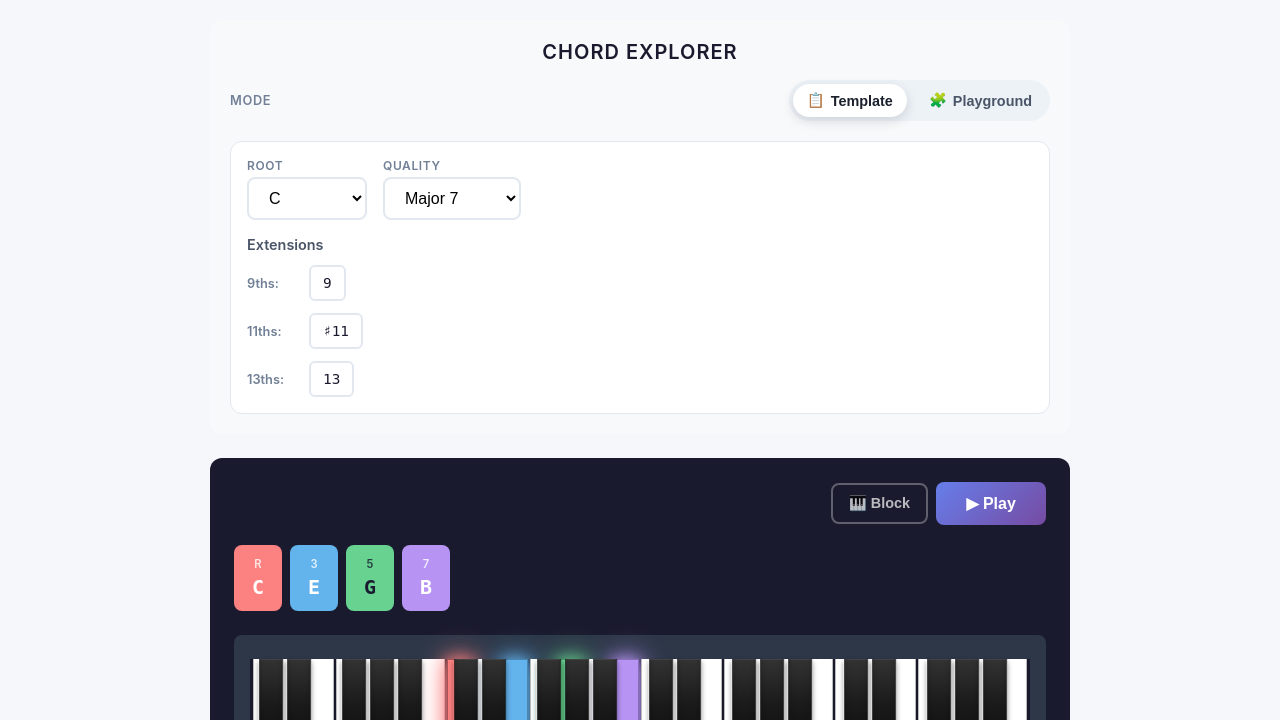
it: ChordExplorer (Playground Mode) › prevents disabling below two enabled notes and shows warning
This screenshot has width=1280, height=720.
Click the button "🧩 Playground" at (980, 100), box [915, 84, 1046, 117]
(page scrolled)
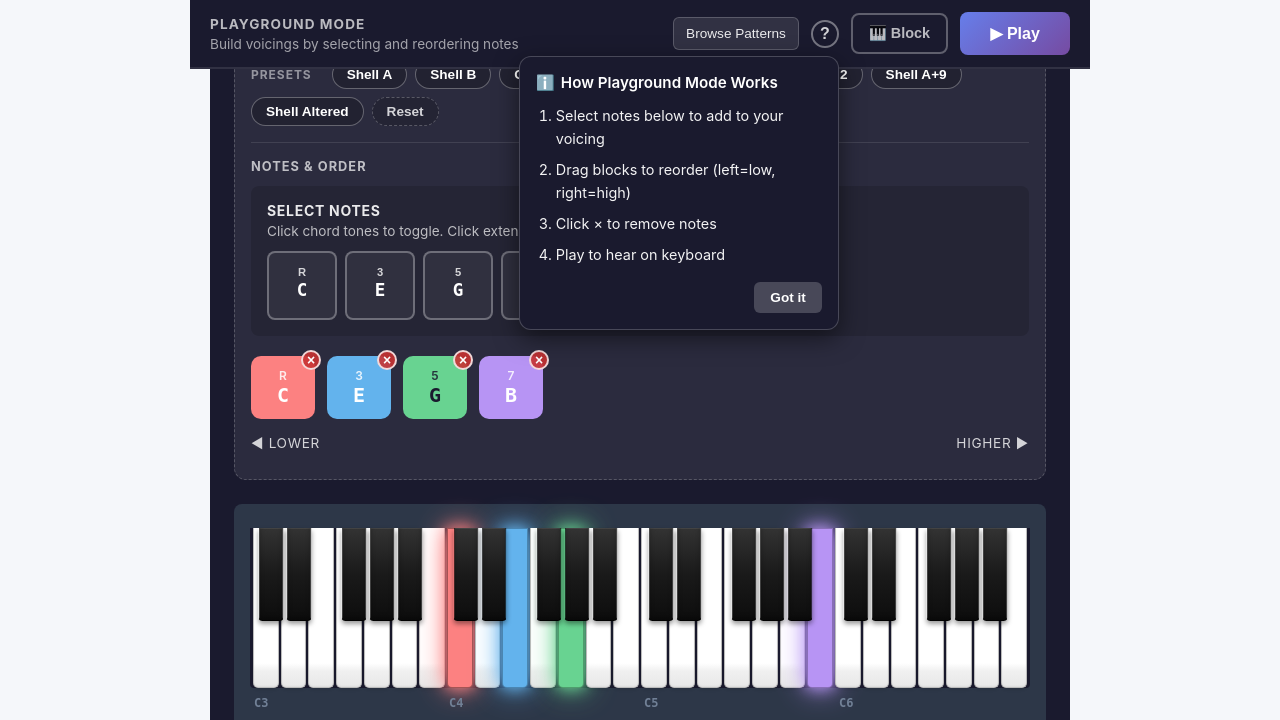
Click the button named "Remove G" at (463, 360), box [453, 350, 473, 370]
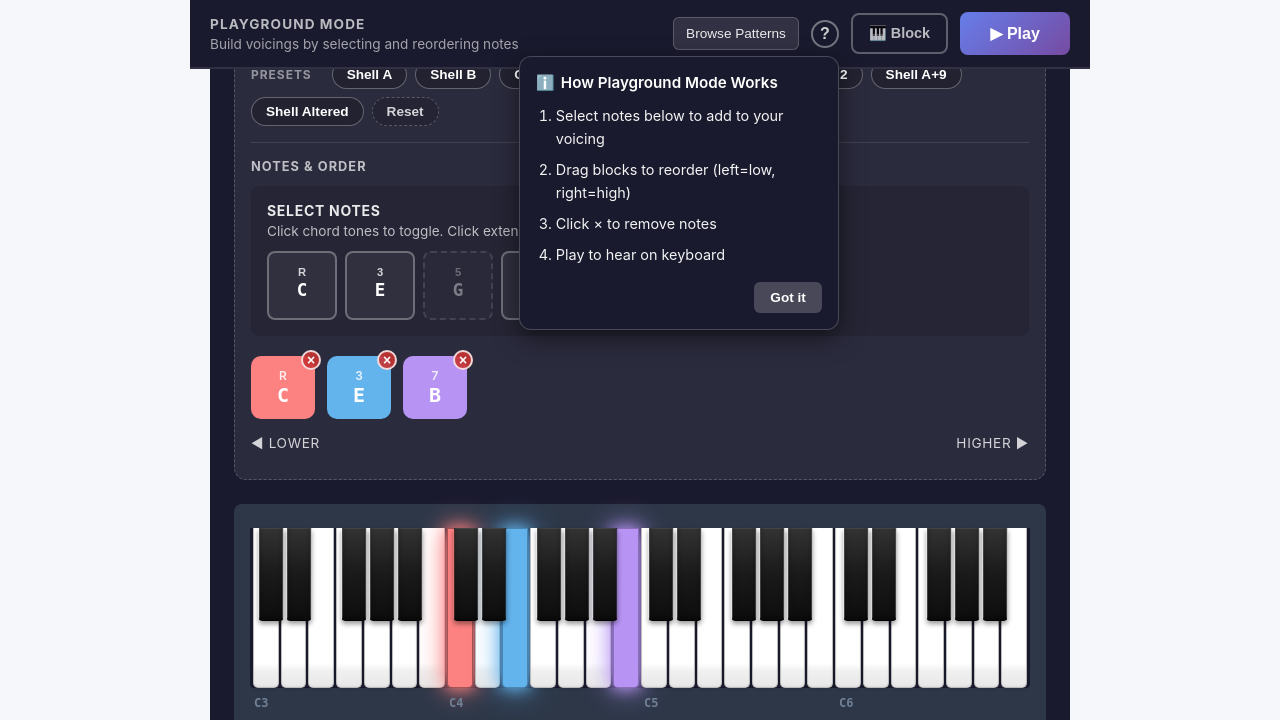
Click the button named "Remove B" at (463, 360), box [453, 350, 473, 370]
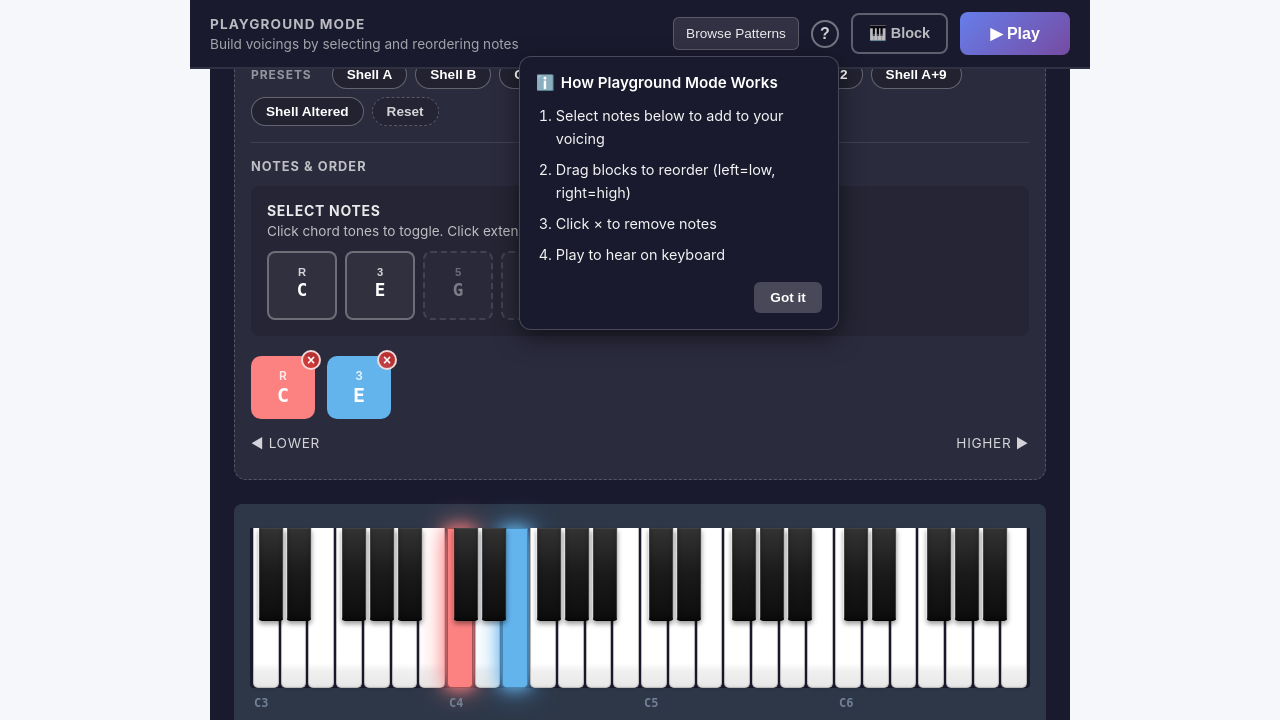
# Now only 2 notes remain enabled (root + third). Removing another should be blocked.
Click the button named "Remove E" at (387, 360), box [377, 350, 397, 370]
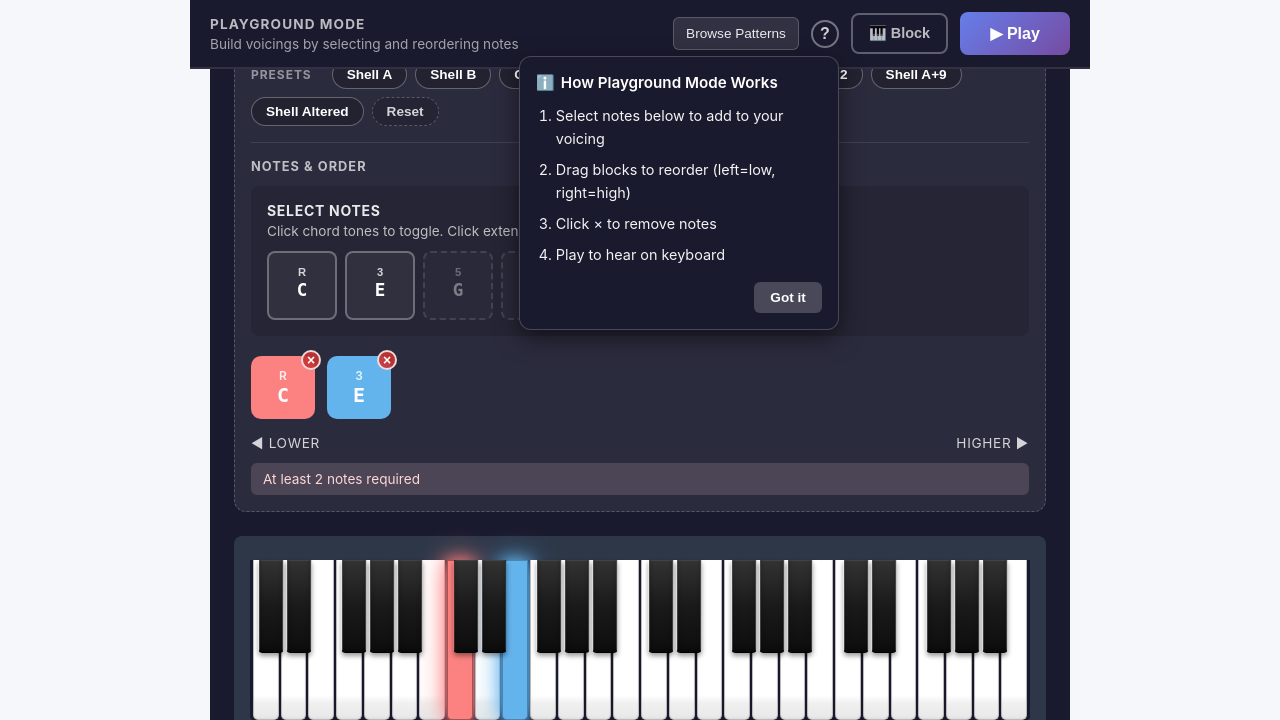
Expected: the text "At least 2 notes required" is shown, [251, 463, 1029, 495]
